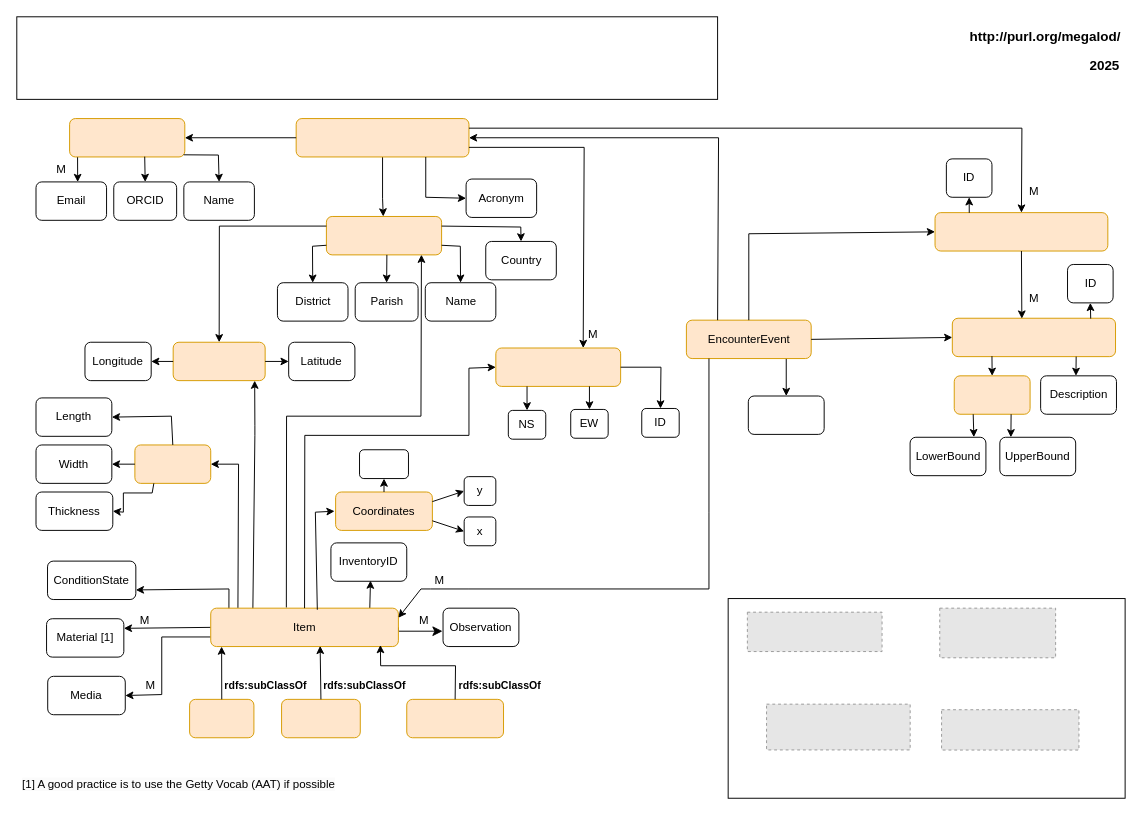
Image size: 1142x815. Some labels were removed from this diagram. Grey dashed boxes stand in for pictures. The shapes that lost their labels are listed below. From the top down, each one's centre as x and y in pixels, then its label:
(x=367, y=57): MegaLOD Project | Domain Model - V1.1
(x=127, y=137): Archaeologist
(x=382, y=137): Excavation
(x=383, y=235): Location
(x=1021, y=231): Context
(x=1033, y=337): StratigraphicVolumeUnit
(x=218, y=361): GPSCoordinates
(x=558, y=366): Square
(x=785, y=414): Date
(x=991, y=394): TimeLine
(x=172, y=463): Typometry
(x=383, y=464): Depth
(x=221, y=718): Arrowhead
(x=320, y=718): Axe
(x=455, y=718): LoomWeight
